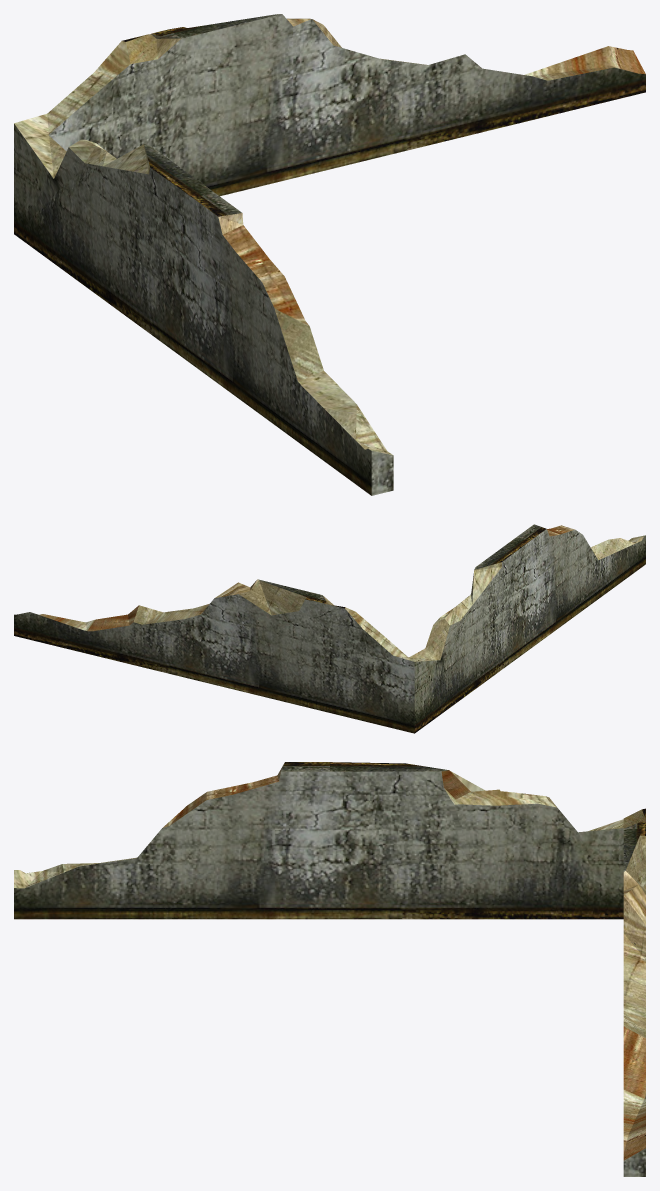
The model's file is wall4.dae.
3 renders of one model, top to bottom at view 1: azimuth 30°, elevation 25°; view 2: azimuth 150°, elevation 25°; view 3: azimuth 270°, elevation 25°, orthographic. The views are drawn at different scales.
Visible parts, largest first — view 1: wall4-col; view 2: wall4-col; view 3: wall4-col.
Part boxes in pixels (x1,y1,x2,y2): wall4-col: (14,14,645,495); wall4-col: (14,524,645,733); wall4-col: (14,762,645,1176).
Bounding box in the file's own units: 16 × 16 × 4.12.
Materials: 1 (1 with a texture image).
